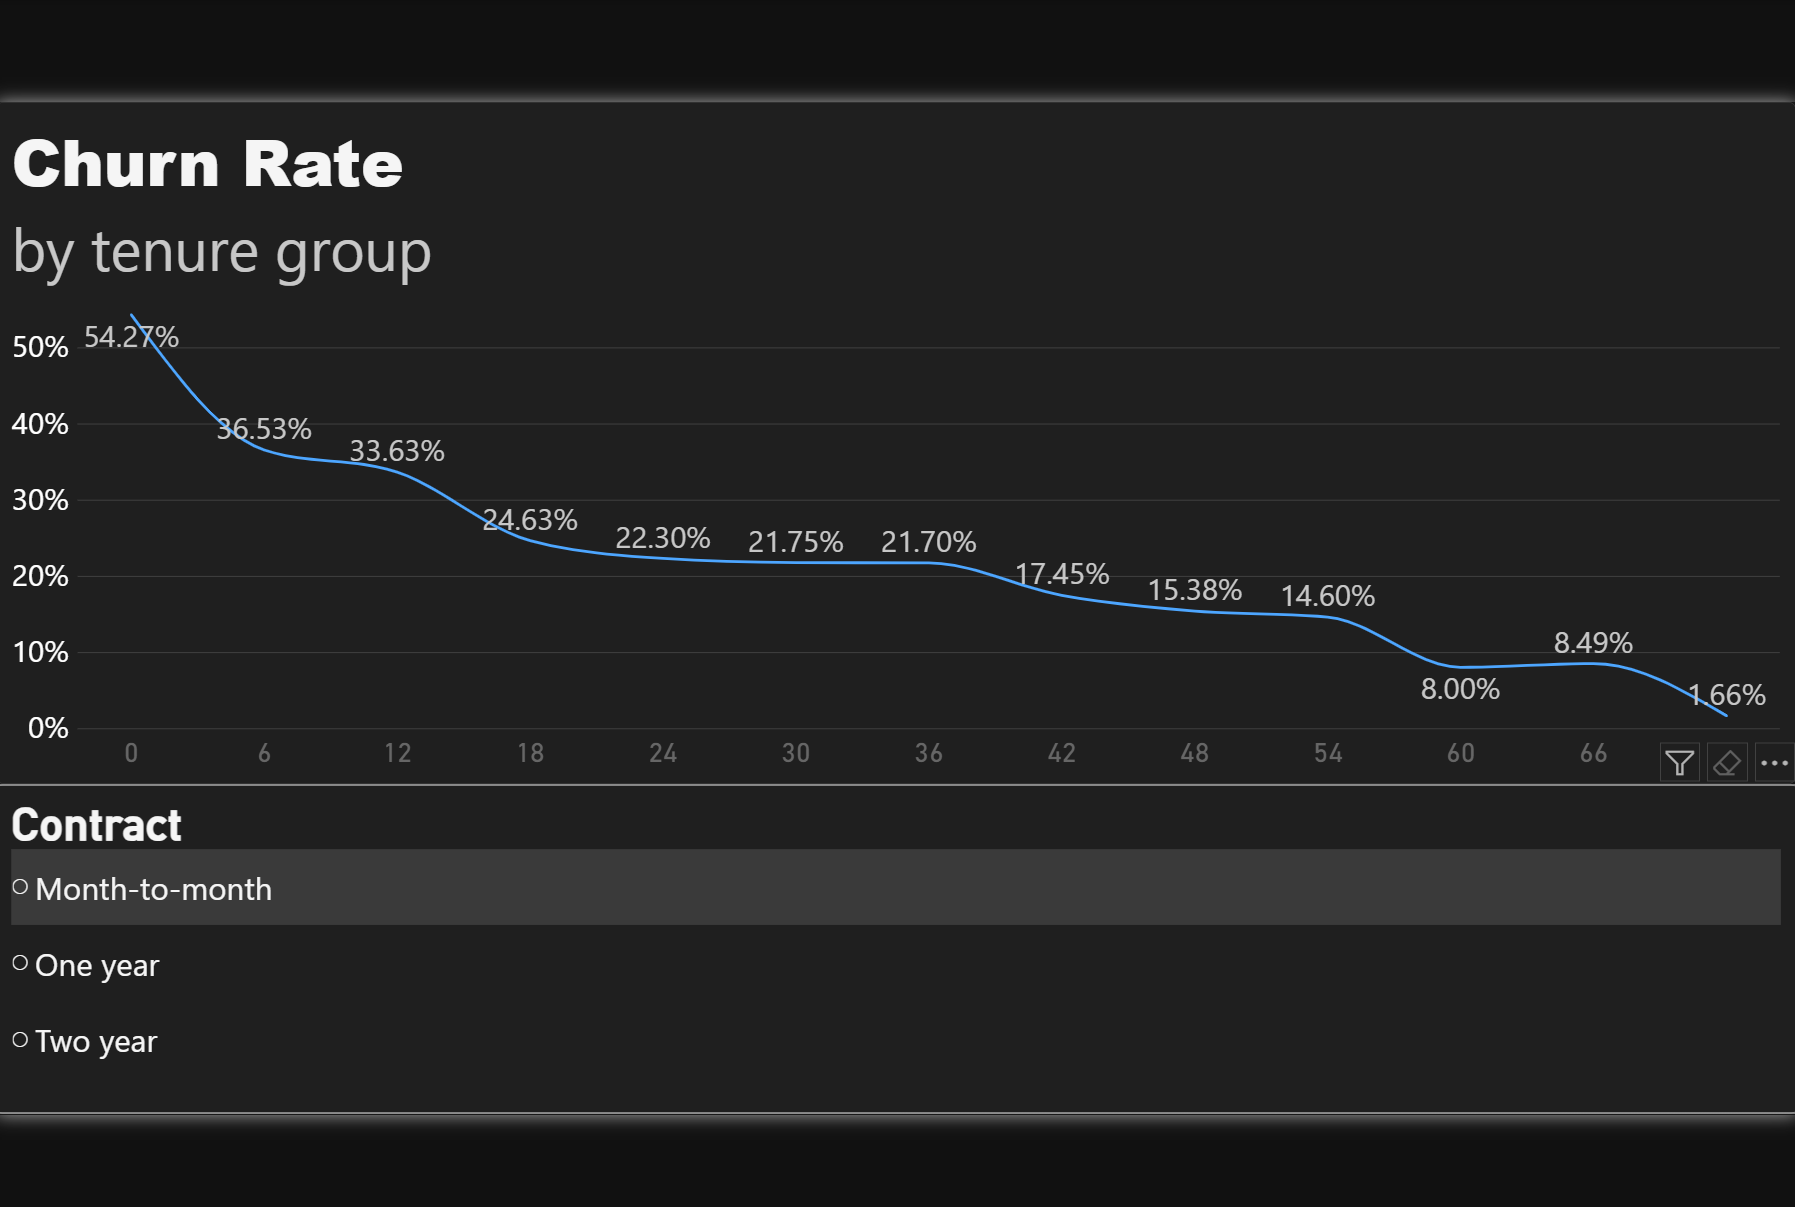

What the dashboard file says about the page in this screenshot:
{"tool":"powerbi","page":{"name":"churnrate by tenure","canvas":[1920,1080],"ordinal":2},"visuals":[{"type":"lineChart","fields":{"Category":["customertable.tenure group"],"Y":["customertable.Churn Rate"]},"box":[0,0,1918.9,727.1],"z":0},{"type":"listSlicer","fields":{"Values":["customertable.Contract"]},"box":[0,727.1,1920.5,351.1],"z":1000}]}

Visuals, with their boxes on the page's 1920x1080 design canvas (x1, y1, x2, y2). These are canvas units, not pixel positions in the 1795x1207 screenshot, which may show the page scaled, cropped or inside an application window:
lineChart - customertable.tenure group x customertable.Churn Rate: select_region(0, 0, 1919, 727)
listSlicer - customertable.Contract: select_region(0, 727, 1920, 1078)
